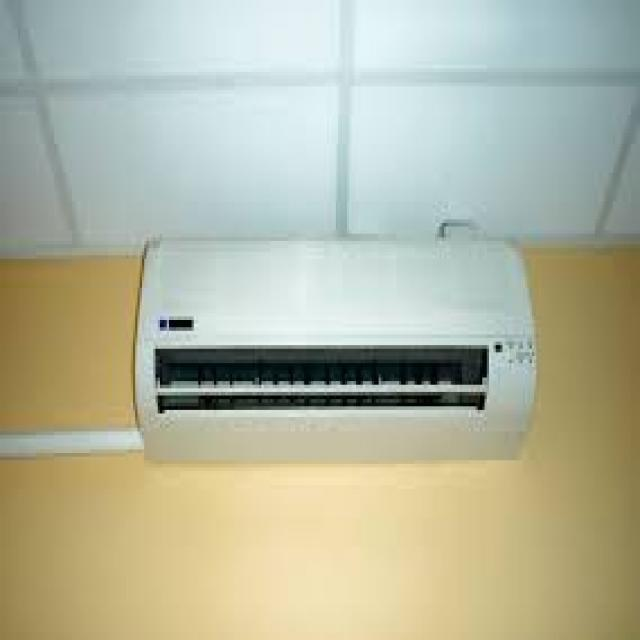AC: (131, 234, 536, 462)
